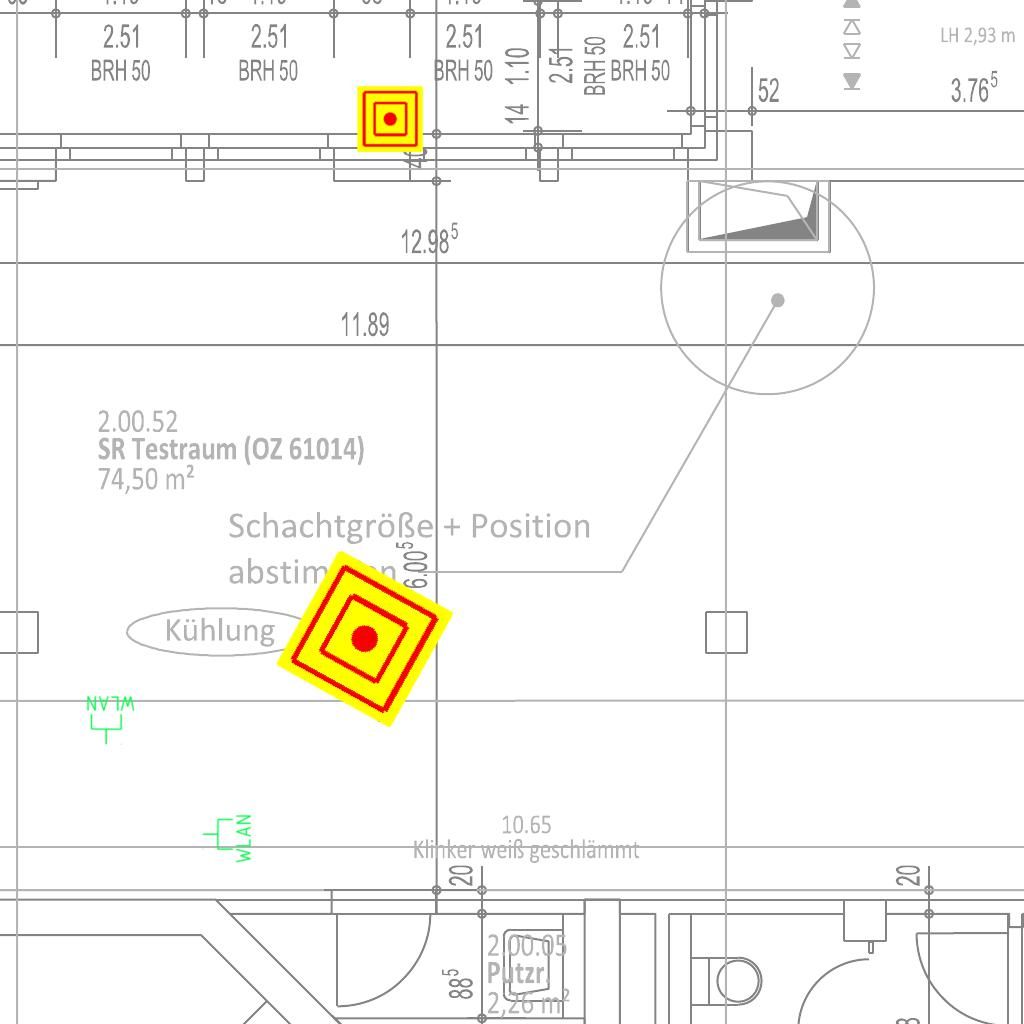NAM-Nichtautomatischer_Melder: (275, 549, 455, 729), (357, 86, 423, 152)
WLAN: (85, 694, 137, 746), (201, 813, 253, 865)
